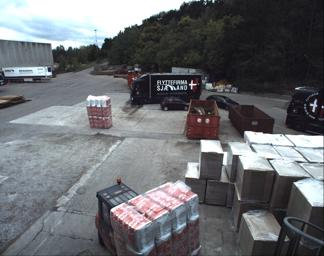rockwool_batts: (112, 181, 201, 255), (86, 95, 112, 127)
